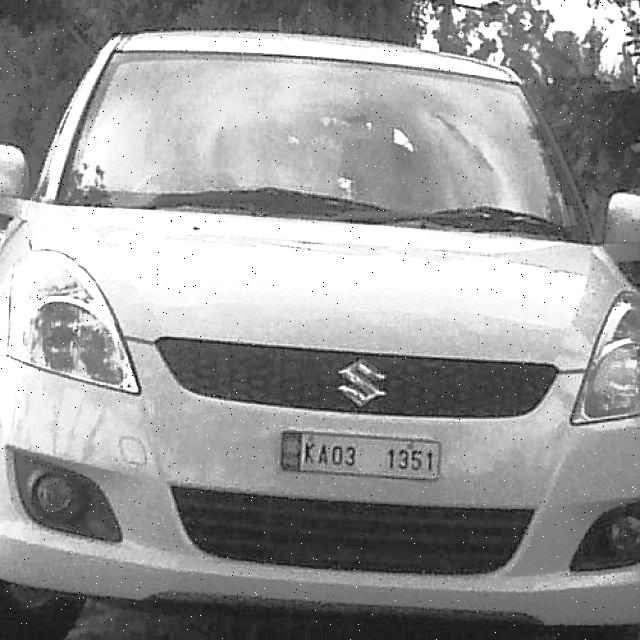Car: (9, 30, 640, 638)
